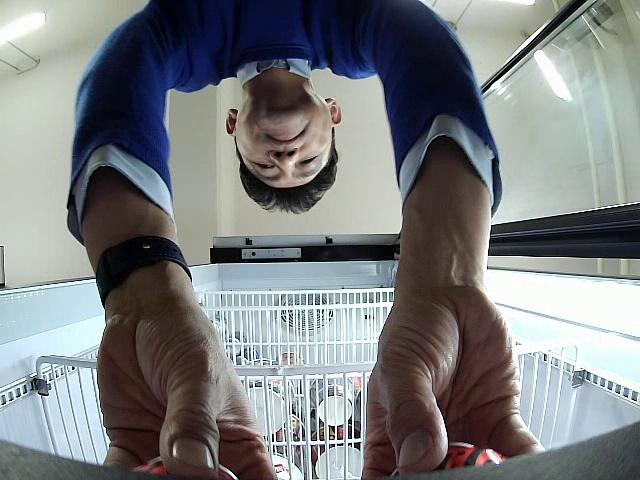00_hand: (360, 261, 545, 478), (97, 306, 277, 479)
